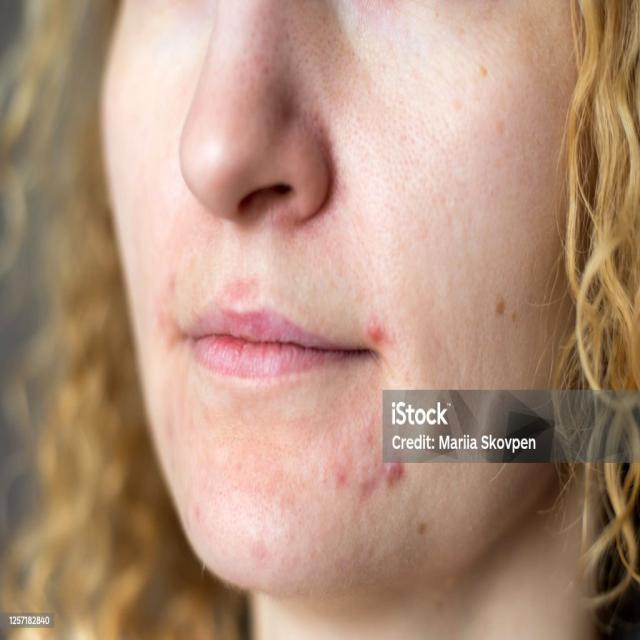papule: (355, 459, 378, 504), (364, 310, 388, 345), (381, 463, 409, 492), (326, 457, 349, 492)
